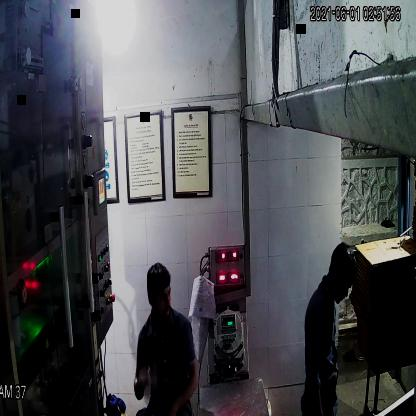no_goggles: (146, 283, 174, 308)
